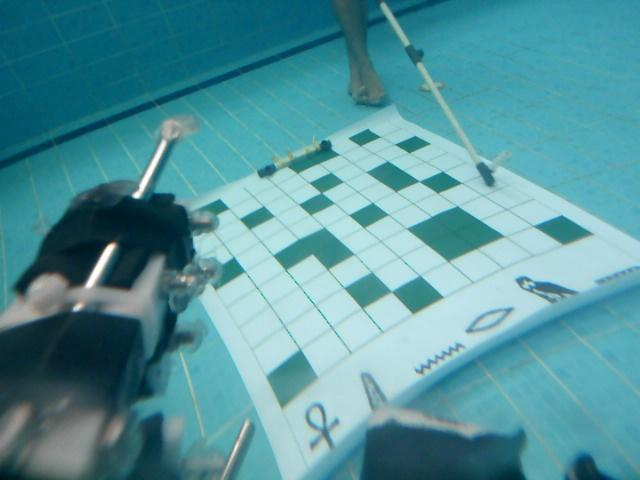Ankh: (301, 399, 349, 466)
Mouth: (466, 302, 516, 339)
Owl: (514, 268, 585, 315)
Reed: (357, 370, 394, 414)
Water: (414, 339, 466, 374)
